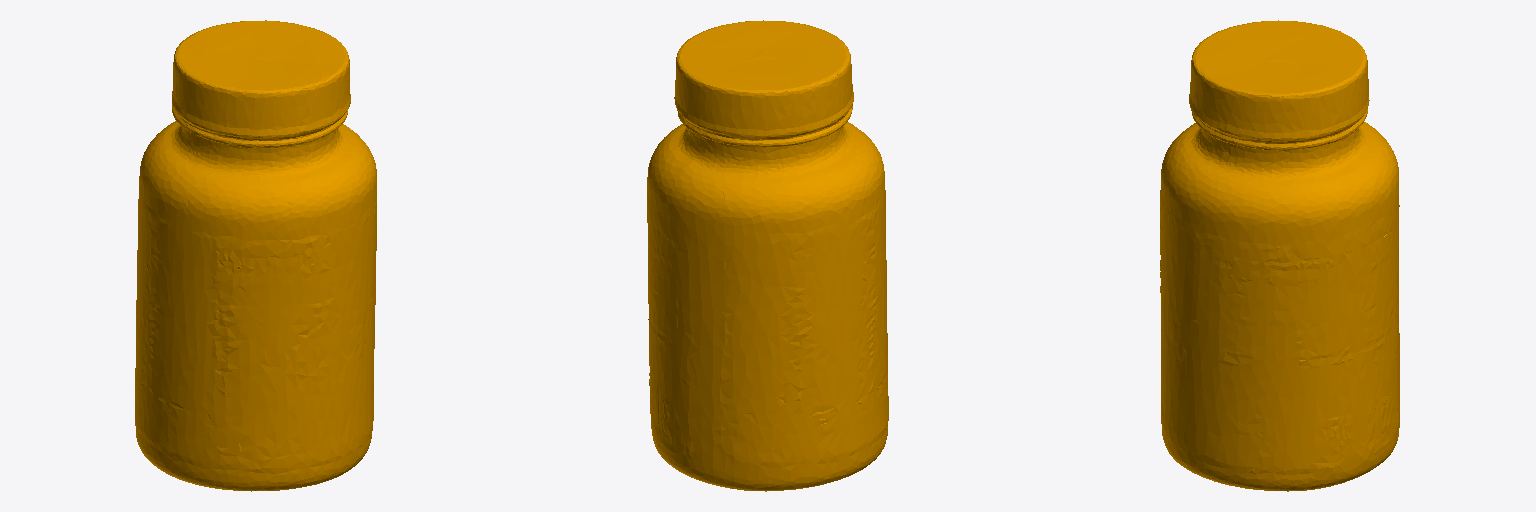
robot.urdf — Krill_Oil:
<?xml version="1.0" ?>
<robot name="Krill_Oil">
  <link name="link_0">
    <inertial>
      <origin xyz="0 0 0" rpy="0 0 0"/>
      <mass value="1.0"/>
      <inertia ixx="0.1" ixy="0.0" ixz="0.0" iyy="0.1" iyz="0.0" izz="0.1"/>
    </inertial>
    <visual name="visual">
      <origin xyz="0 0 0" rpy="0 0 0"/>
      <geometry>
        <mesh filename="meshes/model.obj"/>
      </geometry>
    </visual>
    <collision name="collision_0">
      <origin xyz="0 0 0" rpy="0 0 0"/>
      <geometry>
        <mesh filename="meshes/model.obj"/>
      </geometry>
    </collision>
  </link>
</robot>

--- Render facts (derived) ---
3 views of the same robot in one strip: view 1: azimuth 30°, elevation 25°; view 2: azimuth 150°, elevation 25°; view 3: azimuth 270°, elevation 25° (orthographic).
Model Krill_Oil with 1 links and 0 joints (none), rooted at link_0, posed all joints at 0.
Visible links, largest first — view 1: link_0; view 2: link_0; view 3: link_0.
Link boxes in pixels (x1,y1,x2,y2): link_0: (135,20,376,491); link_0: (647,20,888,491); link_0: (1160,20,1399,491).
Size in the robot's own frame: 0.0548 by 0.0539 by 0.0976 metres.
Meshes: 1 distinct files referenced, 1 mesh visuals loaded (1 OBJ).